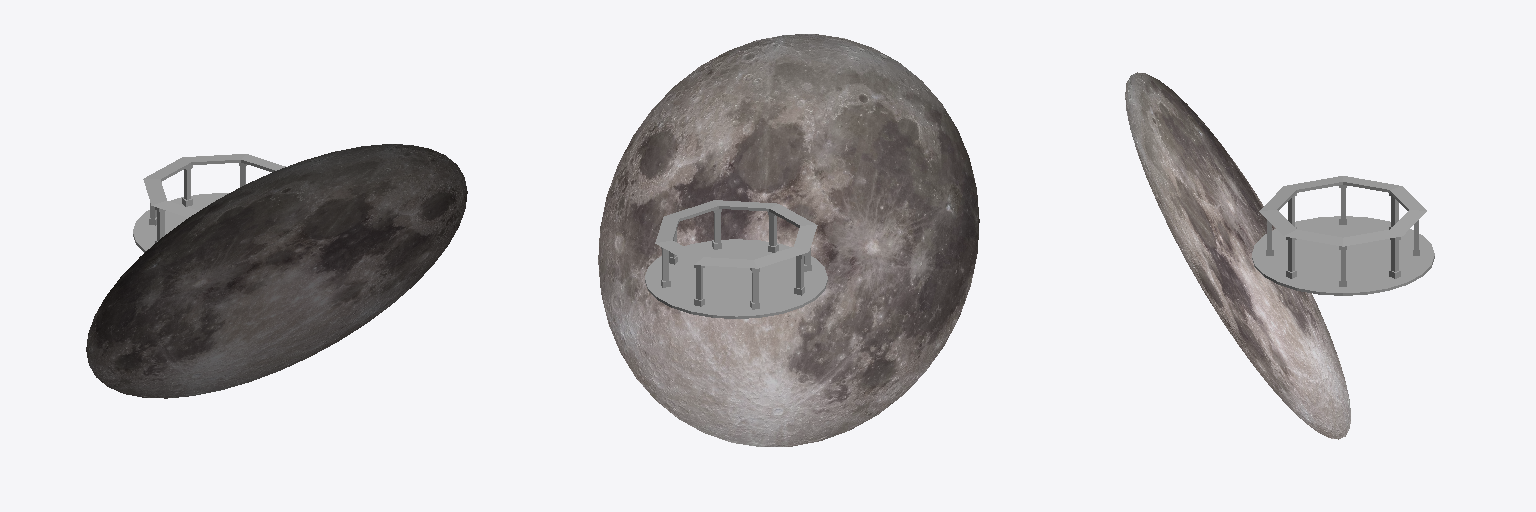
3 views of the same model, side by side, from view 1: azimuth 30°, elevation 25°; view 2: azimuth 150°, elevation 25°; view 3: azimuth 270°, elevation 25° (orthographic).
Visible parts, largest first — view 1: Circle, Torus, Cylinder; view 2: Circle, Cylinder, Torus; view 3: Circle, Cylinder, Torus.
Part boxes in pixels (left/top/right/bottom): Circle: left=86, top=144, right=467, bottom=398; Torus: left=143, top=154, right=285, bottom=217; Cylinder: left=133, top=193, right=228, bottom=252; Circle: left=598, top=34, right=979, bottom=446; Cylinder: left=645, top=239, right=827, bottom=318; Torus: left=655, top=200, right=817, bottom=268; Circle: left=1125, top=72, right=1350, bottom=439; Cylinder: left=1252, top=216, right=1434, bottom=295; Torus: left=1259, top=176, right=1426, bottom=246.
Size of the model in its own units: 2.3 by 1.94 by 1.69.
2 materials, 1 textured.